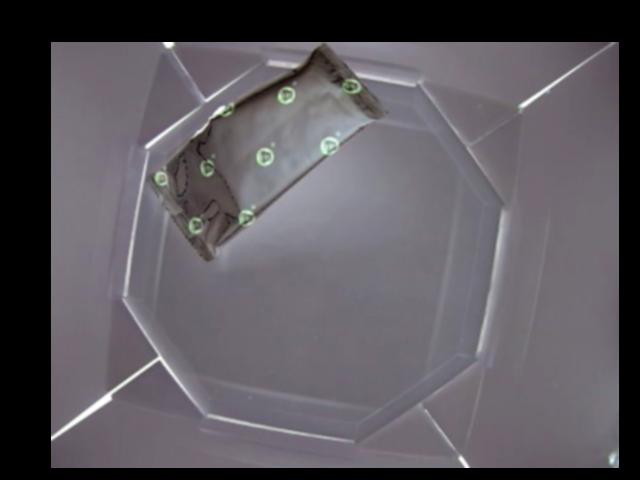Medicine: (145, 42, 390, 259)
